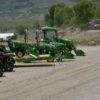Tractor: (7, 18, 83, 63)
